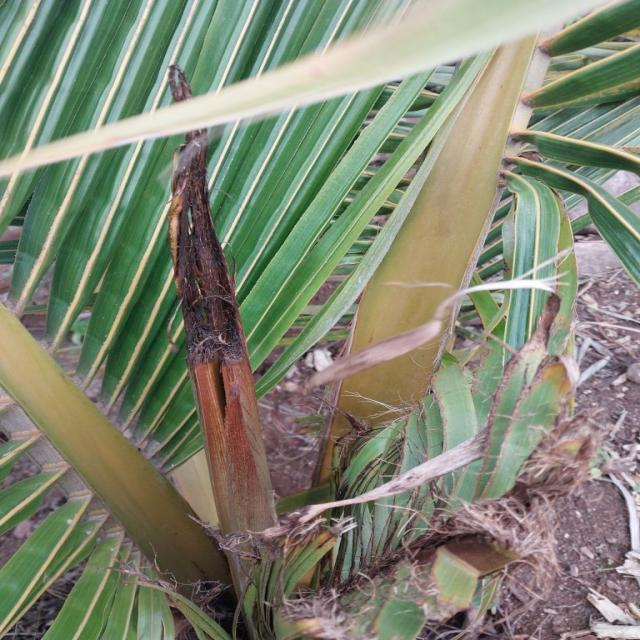bud rot: (170, 130, 275, 533)
